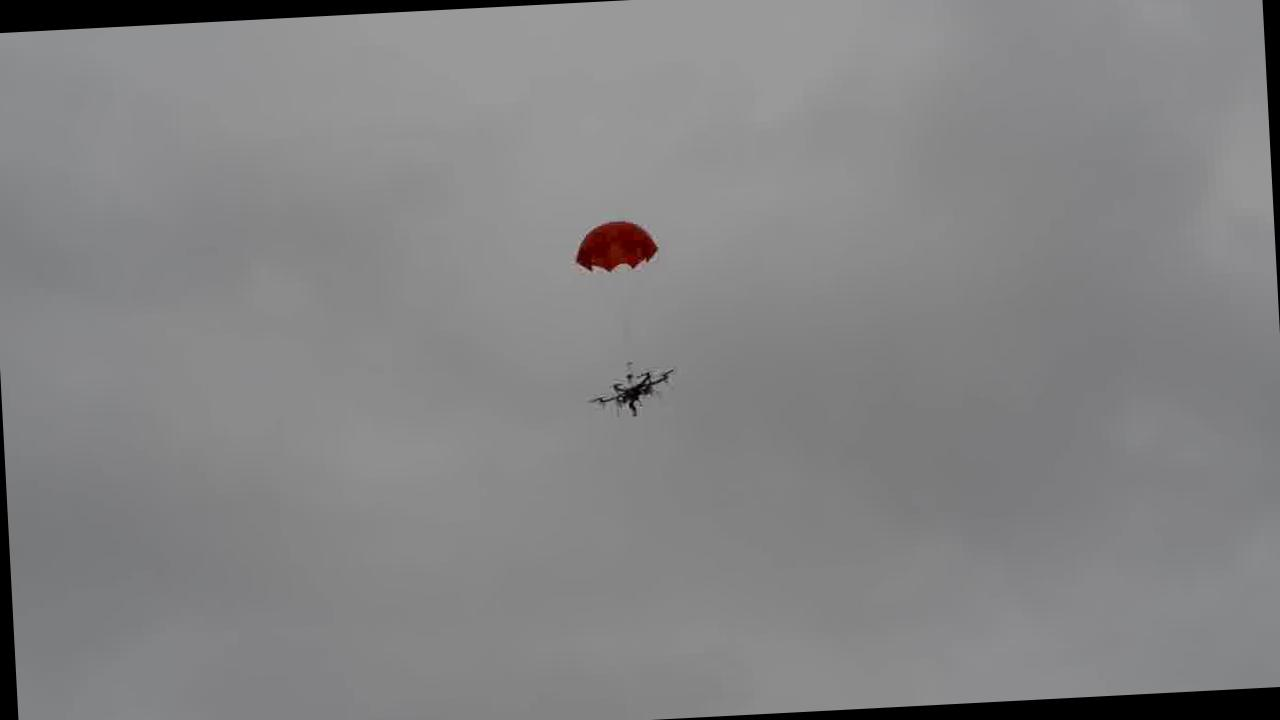drone: (588, 356, 678, 424)
